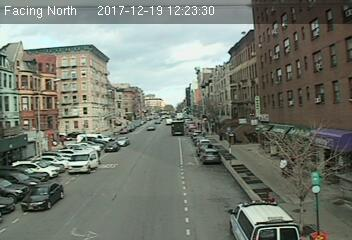car: (22, 179, 63, 212), (201, 148, 219, 162), (103, 141, 119, 153), (114, 137, 130, 147)
police: (225, 197, 294, 240)
truck: (65, 149, 99, 171)
ups: (171, 121, 185, 136)
